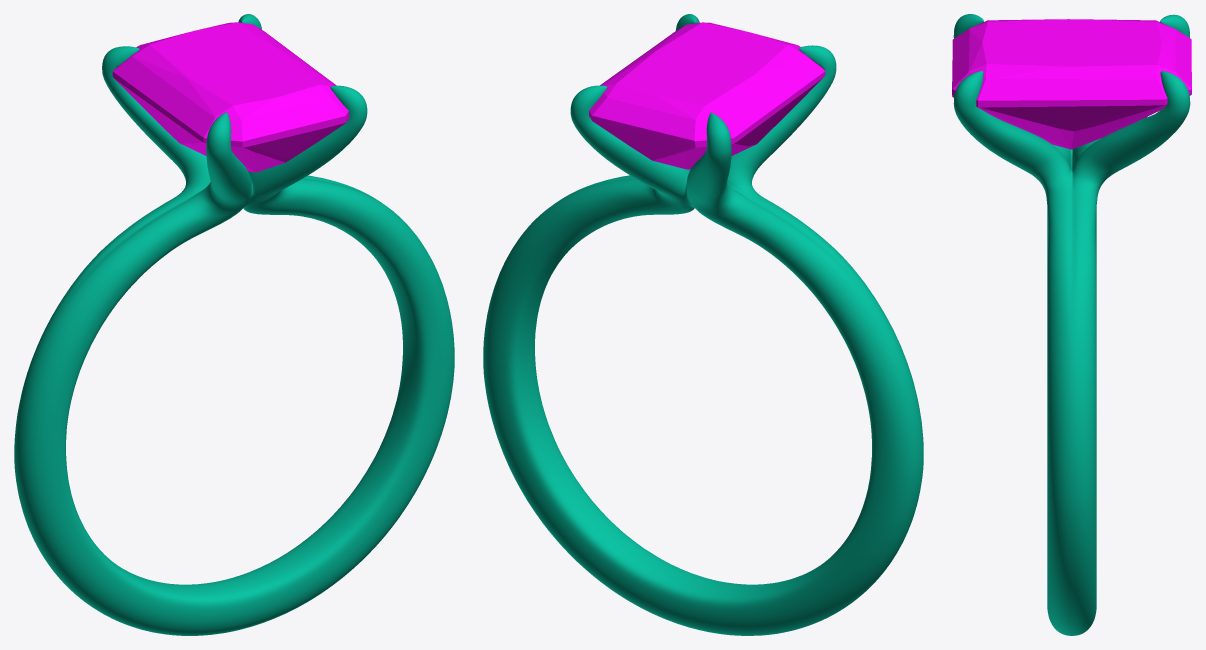
Rendered from BE1443_RA_200ct_RENDER.glb.
3 views of the same model, side by side, from view 1: azimuth 30°, elevation 25°; view 2: azimuth 150°, elevation 25°; view 3: azimuth 270°, elevation 25° (orthographic).
Visible parts, largest first — view 1: Metal 01, CS_Diamond_Radiant; view 2: Metal 01, CS_Diamond_Radiant; view 3: Metal 01, CS_Diamond_Radiant.
Part boxes in pixels (x1,y1,x2,y2): Metal 01: [14, 14, 454, 635]; CS_Diamond_Radiant: [112, 22, 349, 172]; Metal 01: [483, 14, 923, 635]; CS_Diamond_Radiant: [589, 22, 825, 169]; Metal 01: [953, 14, 1190, 635]; CS_Diamond_Radiant: [952, 19, 1191, 149].
Bounding box in the file's own units: 20.48 × 25.44 × 9.71.
